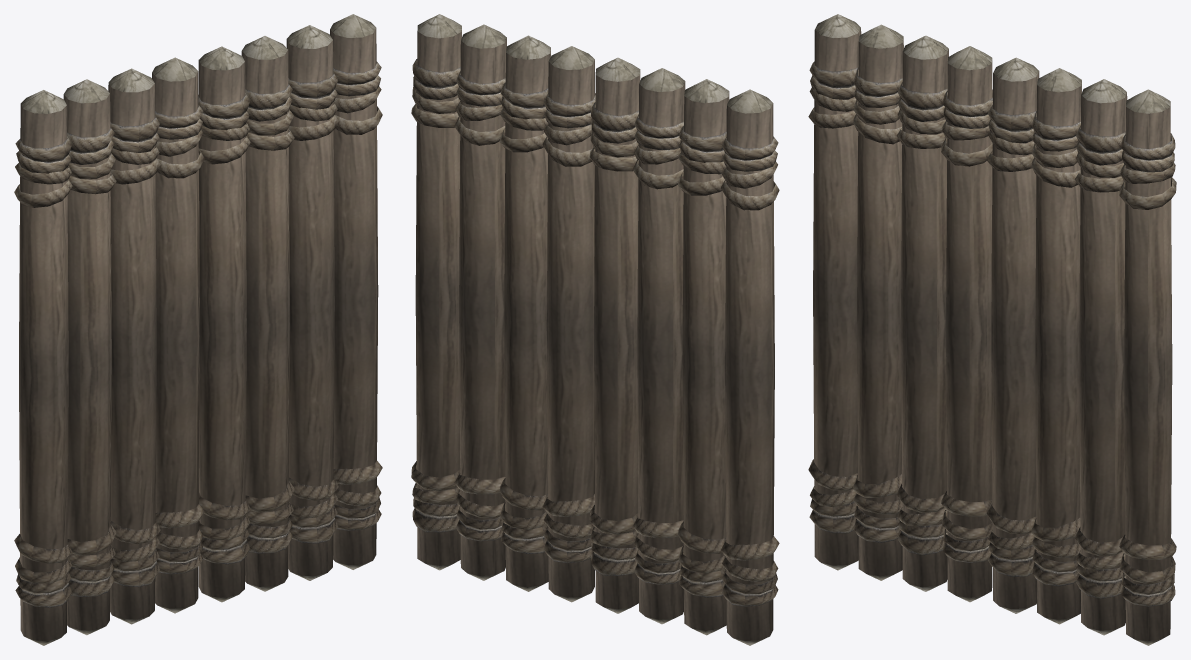
The model's file is Raft_A.fbx.
3 views of the same model, side by side, from view 1: azimuth 30°, elevation 25°; view 2: azimuth 150°, elevation 25°; view 3: azimuth 330°, elevation 25° (orthographic).
Visible parts, largest first — view 1: Raft_A; view 2: Raft_A; view 3: Raft_A.
Part boxes in pixels (x1,y1,x2,y2): Raft_A: (14, 14, 382, 645); Raft_A: (411, 14, 779, 645); Raft_A: (808, 14, 1176, 645).
Bounding box in the file's own units: 3.97 × 5.85 × 0.5559.
